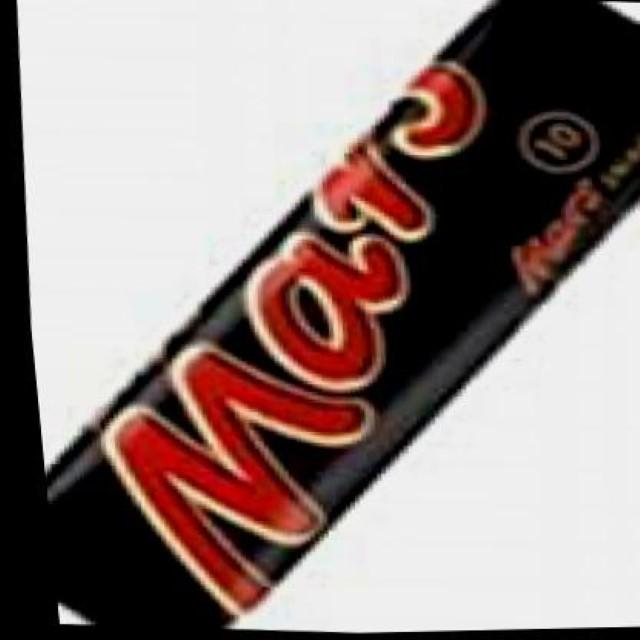mars_chocolate: (0, 31, 575, 640)
